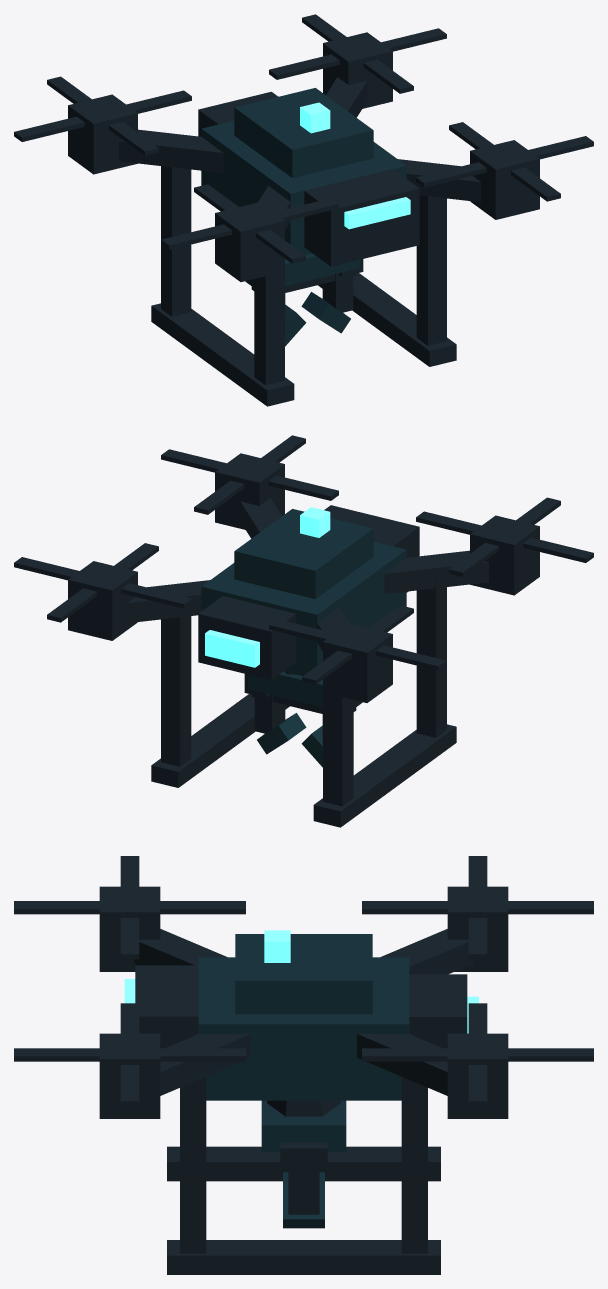
The model's file is drone.glb.
3 views of the same model, one above another, from view 1: azimuth 30°, elevation 25°; view 2: azimuth 150°, elevation 25°; view 3: azimuth 270°, elevation 25° (orthographic). The views are drawn at different scales.
Visible parts, largest first — view 1: drone_body, rotor_3, rotor_2, rotor_1, rotor_0, claw_jaw_r, claw, claw_jaw_l; view 2: drone_body, rotor_2, rotor_3, rotor_0, rotor_1, claw_jaw_r, claw, claw_jaw_l; view 3: drone_body, claw, rotor_2, rotor_3, rotor_0, rotor_1, claw_jaw_r.
Part boxes in pixels (box(x1,y1,x2,y2)): drone_body: box(68, 32, 539, 406); rotor_3: box(269, 14, 446, 93); rotor_2: box(416, 122, 593, 201); rotor_1: box(161, 184, 338, 263); rotor_0: box(14, 76, 191, 155); claw_jaw_r: box(301, 259, 363, 333); claw: box(251, 253, 360, 292); claw_jaw_l: box(245, 279, 306, 346); drone_body: box(68, 453, 539, 827); rotor_2: box(161, 435, 338, 514); rotor_3: box(14, 543, 191, 622); rotor_0: box(269, 605, 446, 684); rotor_1: box(416, 497, 593, 576); claw_jaw_r: box(244, 674, 306, 754); claw: box(247, 671, 356, 713); claw_jaw_l: box(301, 700, 362, 767); drone_body: box(99, 886, 508, 1274); claw: box(261, 1100, 346, 1177); rotor_2: box(14, 1003, 245, 1106); rotor_3: box(362, 1003, 593, 1106); rotor_0: box(362, 856, 593, 959); rotor_1: box(14, 856, 245, 959); claw_jaw_r: box(280, 1142, 327, 1228).
Size of the model in its own units: 1.1 by 0.595 by 1.1.
